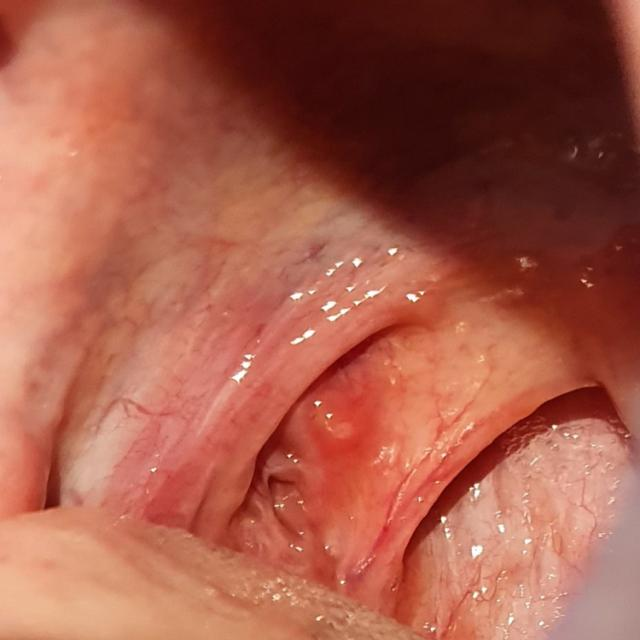Non Pharyngitis: (335, 256, 595, 452), (28, 336, 241, 538)
